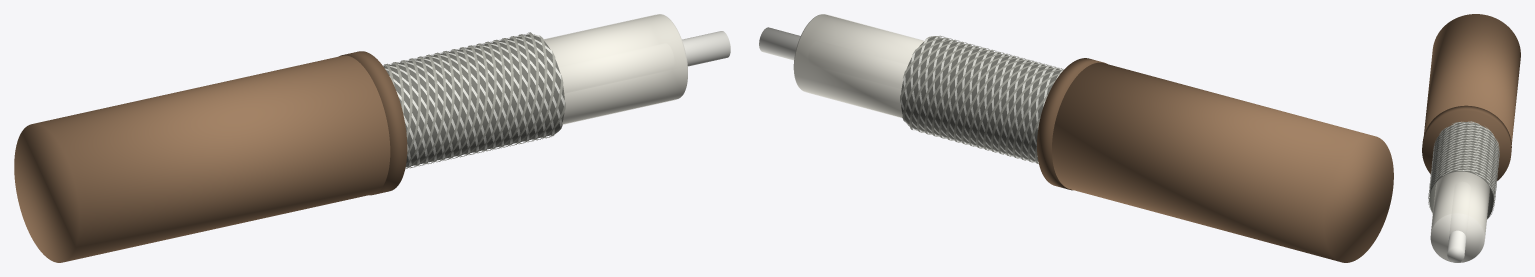
3 renders of one model, left to right at view 1: azimuth 30°, elevation 25°; view 2: azimuth 150°, elevation 25°; view 3: azimuth 270°, elevation 25°, orthographic. The views are drawn at different scales.
Parts seen in each view (by area): view 1: matte black pvc jacket body, smooth dielectric skin, gas injected foam dielectric, braid dark diamond recess, jacket cut lip, solid center conductor continuous, braid left hand woven carrier 02, braid left hand woven carrier 12, braid left hand woven carrier 01, braid left hand woven carrier 11, braid left hand woven carrier 03, braid left hand woven carrier 10 (+11 smaller); view 2: matte black pvc jacket body, smooth dielectric skin, gas injected foam dielectric, braid dark diamond recess, jacket cut lip, solid center conductor continuous, braid left hand woven carrier 09, braid left hand woven carrier 10, braid left hand woven carrier 08, braid left hand woven carrier 07, braid left hand woven carrier 11, braid left hand woven carrier 06 (+9 smaller); view 3: matte black pvc jacket body, gas injected foam dielectric, braid dark diamond recess, smooth dielectric skin, jacket cut lip, solid center conductor continuous, braid left hand woven carrier 10, braid left hand woven carrier 11, braid left hand woven carrier 09, braid left hand woven carrier 08, braid left hand woven carrier 12, braid left hand woven carrier 07 (+18 smaller).
Boxes of the visible parts, left/top/right/bottom form: matte black pvc jacket body: left=14, top=55, right=390, bottom=262; smooth dielectric skin: left=544, top=14, right=686, bottom=124; gas injected foam dielectric: left=544, top=14, right=687, bottom=123; braid dark diamond recess: left=383, top=34, right=564, bottom=167; jacket cut lip: left=339, top=51, right=407, bottom=195; solid center conductor continuous: left=682, top=31, right=730, bottom=66; braid left hand woven carrier 02: left=405, top=35, right=547, bottom=169; braid left hand woven carrier 12: left=406, top=34, right=530, bottom=165; braid left hand woven carrier 01: left=405, top=32, right=538, bottom=168; braid left hand woven carrier 11: left=407, top=36, right=521, bottom=156; braid left hand woven carrier 03: left=411, top=51, right=555, bottom=167; braid left hand woven carrier 10: left=400, top=38, right=513, bottom=154; matte black pvc jacket body: left=1052, top=62, right=1393, bottom=262; smooth dielectric skin: left=794, top=14, right=924, bottom=117; gas injected foam dielectric: left=793, top=14, right=923, bottom=117; braid dark diamond recess: left=901, top=36, right=1061, bottom=161; jacket cut lip: left=1037, top=58, right=1106, bottom=190; solid center conductor continuous: left=759, top=27, right=800, bottom=60; braid left hand woven carrier 09: left=909, top=46, right=1063, bottom=154; braid left hand woven carrier 10: left=902, top=44, right=1061, bottom=152; braid left hand woven carrier 08: left=917, top=48, right=1060, bottom=156; braid left hand woven carrier 07: left=924, top=50, right=1055, bottom=158; braid left hand woven carrier 11: left=900, top=42, right=1062, bottom=150; braid left hand woven carrier 06: left=931, top=52, right=1047, bottom=160; matte black pvc jacket body: left=1424, top=14, right=1520, bottom=144; gas injected foam dielectric: left=1430, top=171, right=1489, bottom=262; braid dark diamond recess: left=1429, top=122, right=1498, bottom=218; smooth dielectric skin: left=1431, top=172, right=1489, bottom=237; jacket cut lip: left=1422, top=105, right=1511, bottom=180; solid center conductor continuous: left=1447, top=230, right=1466, bottom=262; braid left hand woven carrier 10: left=1430, top=129, right=1498, bottom=214; braid left hand woven carrier 11: left=1429, top=132, right=1497, bottom=200; braid left hand woven carrier 09: left=1430, top=127, right=1498, bottom=217; braid left hand woven carrier 08: left=1430, top=124, right=1498, bottom=201; braid left hand woven carrier 12: left=1430, top=134, right=1497, bottom=186; braid left hand woven carrier 07: left=1431, top=122, right=1498, bottom=193.
Size of the model in its own units: 6.53 by 1.22 by 1.35.
